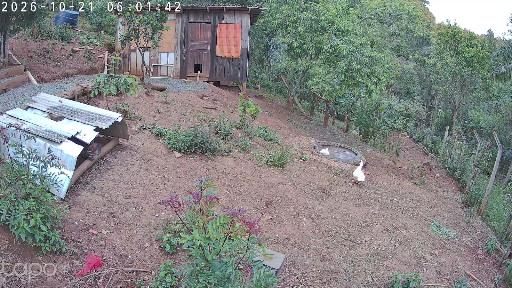frango: (84, 144, 101, 159)
galinha: (253, 84, 260, 92)
pato: (351, 161, 368, 184), (318, 147, 330, 158)
